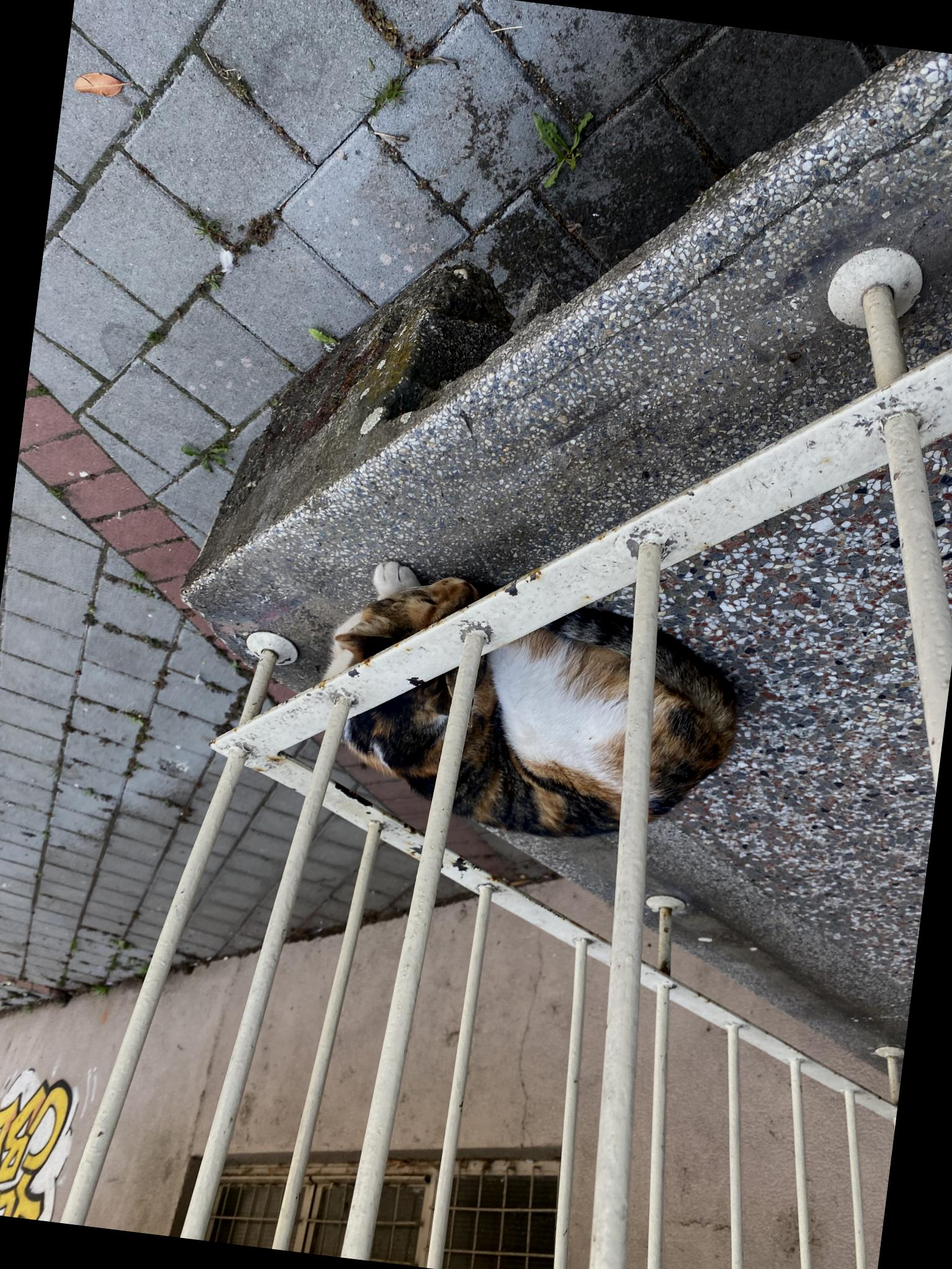macka: (314, 545, 757, 869)
